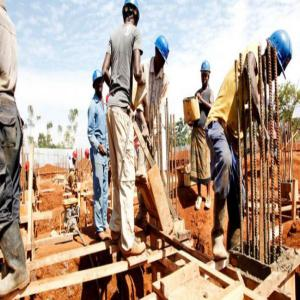blue: (267, 28, 294, 81), (123, 2, 142, 30), (155, 35, 170, 69), (93, 69, 105, 96), (201, 60, 212, 88)
